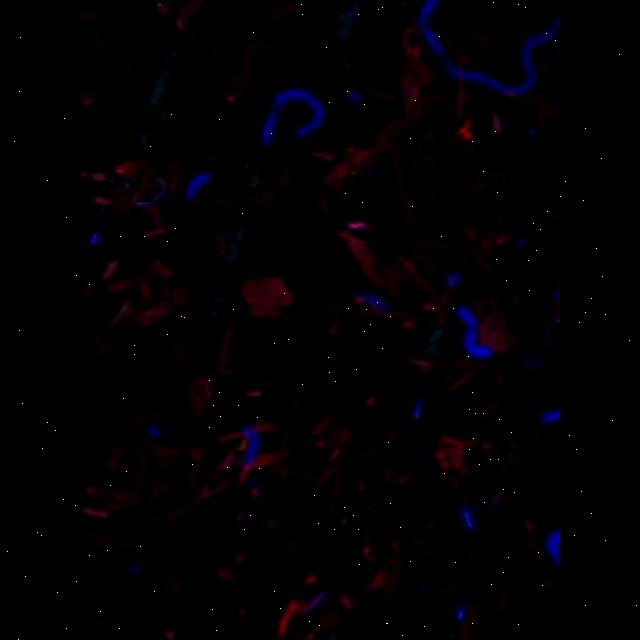Fragment: (239, 275, 293, 318)
